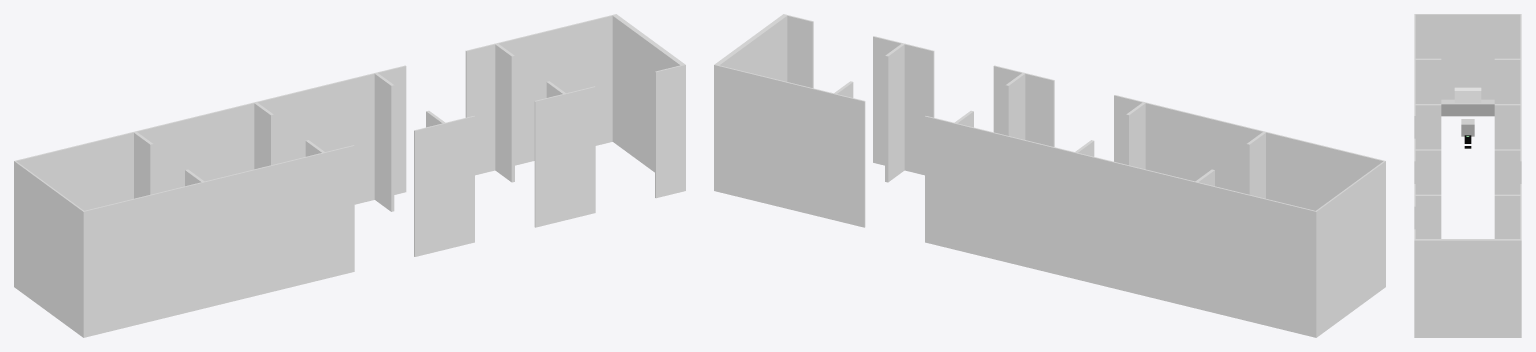
The model's file is rooms.gltf.
3 views of the same model, side by side, from view 1: azimuth 30°, elevation 25°; view 2: azimuth 150°, elevation 25°; view 3: azimuth 270°, elevation 25° (orthographic). The views are drawn at different scales.
Parts seen in each view (by area): view 1: closet, straight, corner, junction, fourway; view 2: closet, straight, corner, junction, fourway; view 3: corner, closet, straight, fourway, junction, sideboard, shelves, central-table.
Boxes of the visible parts, x1,y1,x2,y2 form: closet: (14, 131, 203, 337); straight: (135, 102, 324, 308); corner: (496, 14, 685, 219); junction: (255, 73, 444, 278); fourway: (376, 43, 565, 249); closet: (1196, 131, 1385, 337); straight: (1075, 102, 1264, 308); corner: (714, 14, 903, 219); junction: (955, 73, 1144, 278); fourway: (834, 43, 1023, 249); corner: (1414, 195, 1521, 337); closet: (1414, 14, 1521, 99); straight: (1414, 59, 1521, 104); fourway: (1414, 150, 1521, 195); junction: (1414, 104, 1521, 149); sideboard: (1441, 99, 1494, 116); shelves: (1454, 87, 1481, 102); central-table: (1461, 119, 1474, 136).
Bounding box in the file's own units: 20 × 4 × 4.
4 materials, 2 textured.
